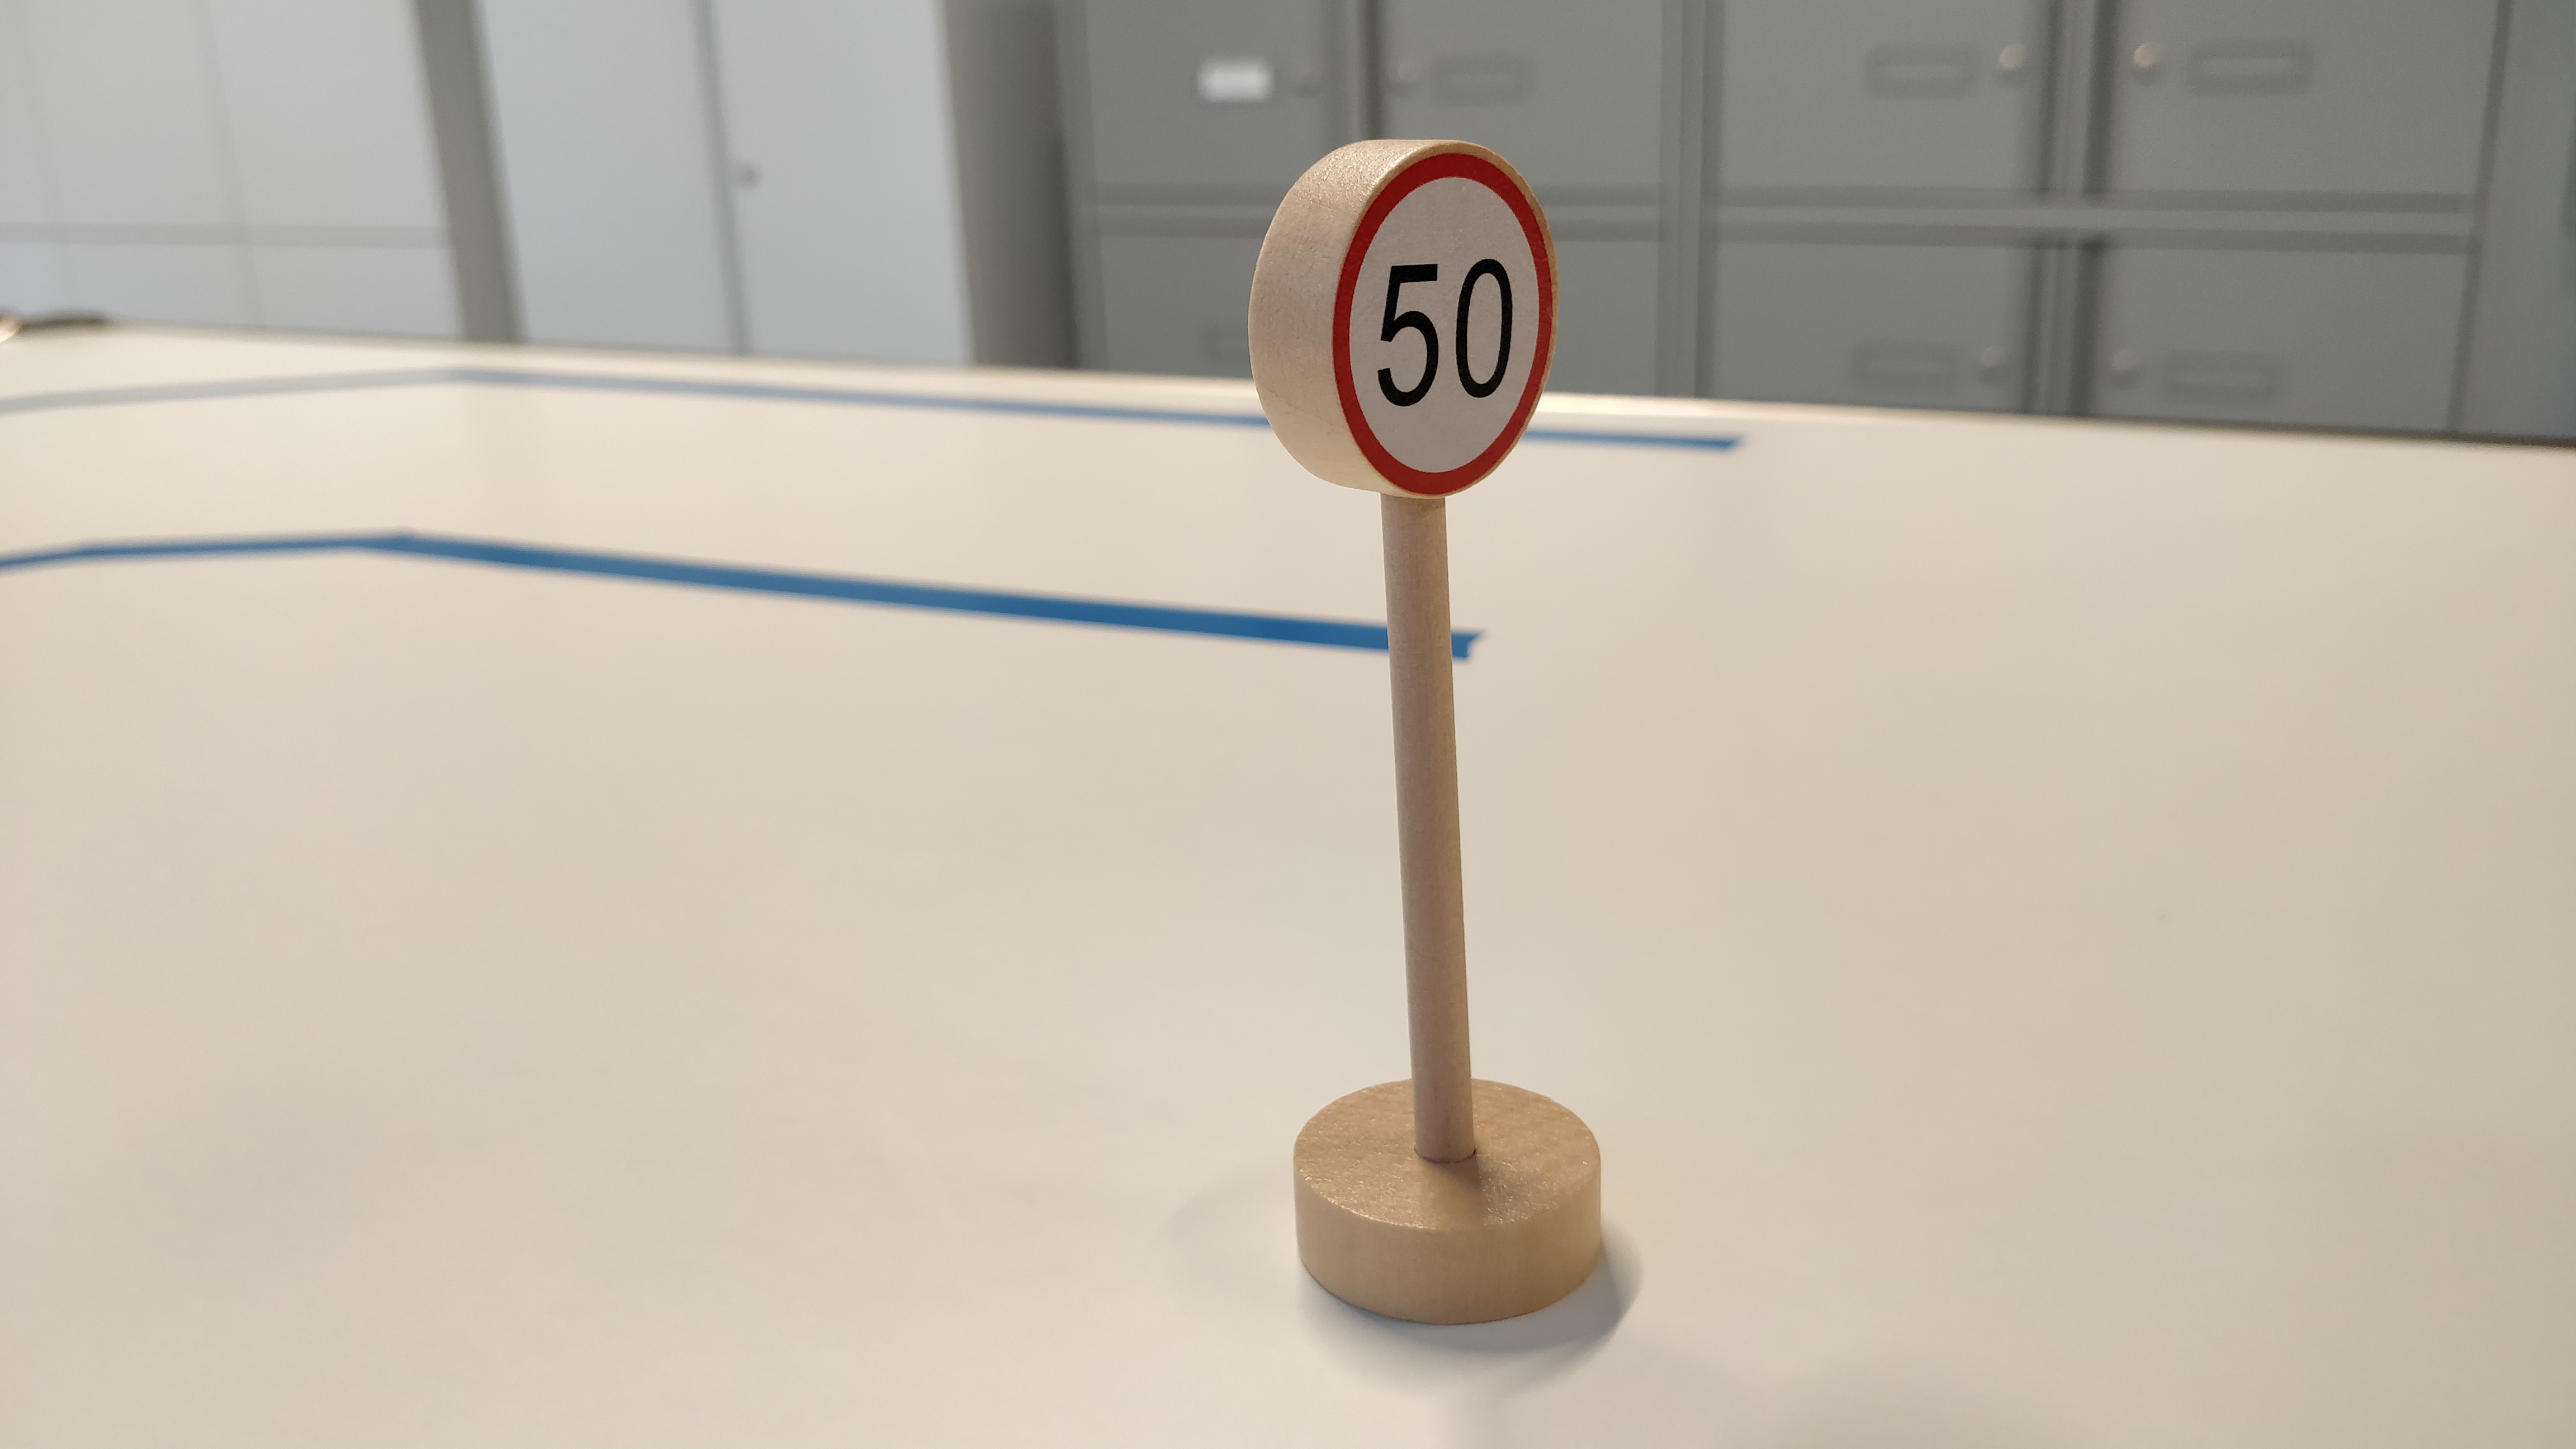Speed Limit 50: (1239, 135, 1564, 505)
